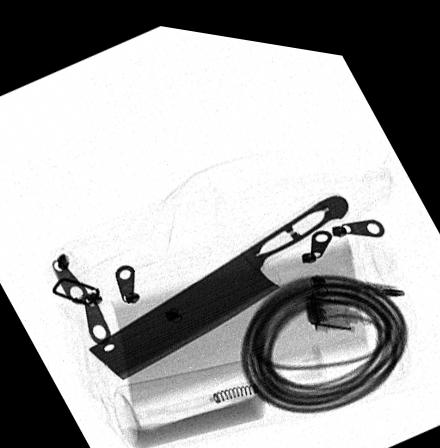Knife: (85, 182, 348, 376)
